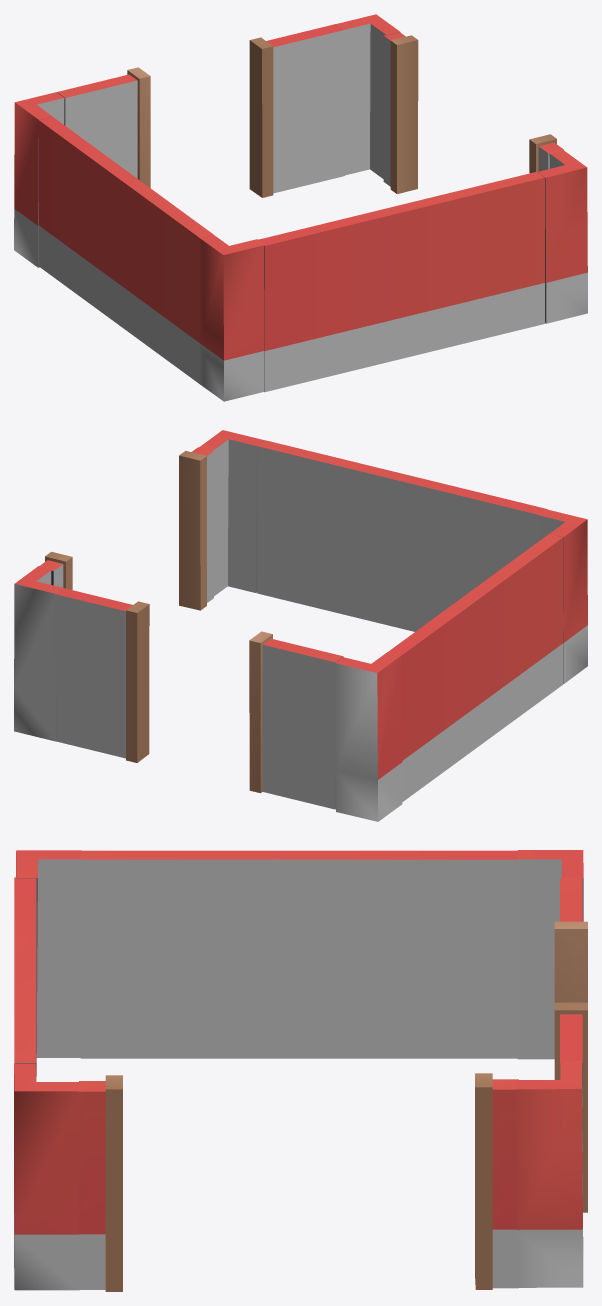
The model's file is GARAJE.fbx.
The picture shows the model from 3 angles, top to bottom: view 1: azimuth 30°, elevation 25°; view 2: azimuth 150°, elevation 25°; view 3: azimuth 270°, elevation 25°; orthographic projection. The views are drawn at different scales.
Visible parts, largest first — view 1: paret_basica19, paret_basica20, paret_puerta37, paret_esquina26, paret_esquina23, paret_garaje2, paret_esquina28, paret_esquina_59; view 2: paret_basica19, paret_puerta37, paret_basica20, paret_esquina_59, paret_esquina23, paret_esquina28, paret_garaje2, paret_esquina26; view 3: paret_basica20, paret_garaje2, paret_esquina28, paret_esquina23, paret_esquina26, paret_esquina_59, paret_puerta37, paret_basica19.
Boxes of the visible parts, box(x1,y1,x2,y2) form: paret_basica19: box(258, 171, 544, 392); paret_basica20: box(38, 117, 213, 383); paret_puerta37: box(57, 24, 344, 197); paret_esquina26: box(199, 234, 264, 401); paret_esquina23: box(537, 150, 587, 323); paret_garaje2: box(383, 32, 563, 194); paret_esquina28: box(334, 14, 400, 178); paret_esquina_59: box(14, 92, 64, 267); paret_basica19: box(257, 440, 547, 631); paret_puerta37: box(54, 588, 343, 809); paret_basica20: box(388, 534, 563, 801); paret_esquina_59: box(335, 652, 402, 821); paret_esquina23: box(199, 430, 264, 595); paret_esquina28: box(14, 566, 64, 741); paret_garaje2: box(39, 447, 213, 610); paret_esquina26: box(537, 509, 587, 683); paret_basica20: box(80, 850, 519, 1058); paret_garaje2: box(79, 1073, 518, 1291); paret_esquina28: box(516, 1061, 583, 1287); paret_esquina23: box(14, 1063, 79, 1290); paret_esquina26: box(16, 850, 81, 1076); paret_esquina_59: box(517, 850, 583, 1059); paret_puerta37: box(554, 877, 587, 1212); paret_basica19: box(14, 877, 36, 1081).
Bounding box in the file's own units: 869 × 341 × 866.
